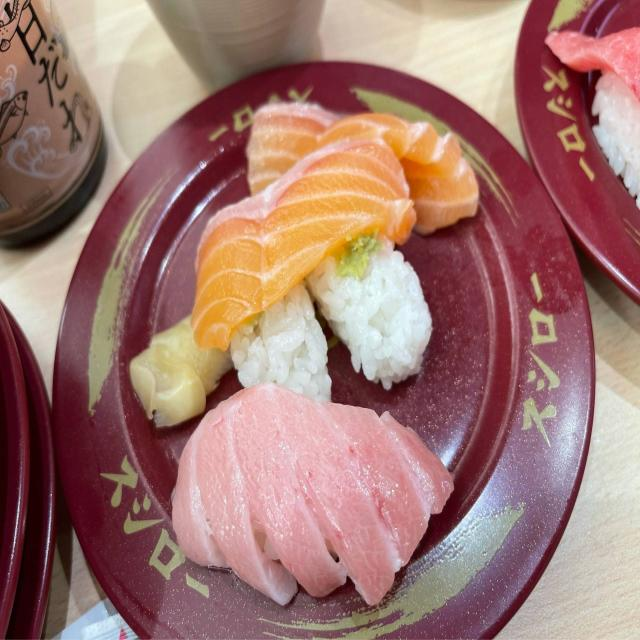janred: (80, 69, 549, 621), (513, 0, 640, 298), (0, 283, 69, 640), (0, 308, 25, 616)
